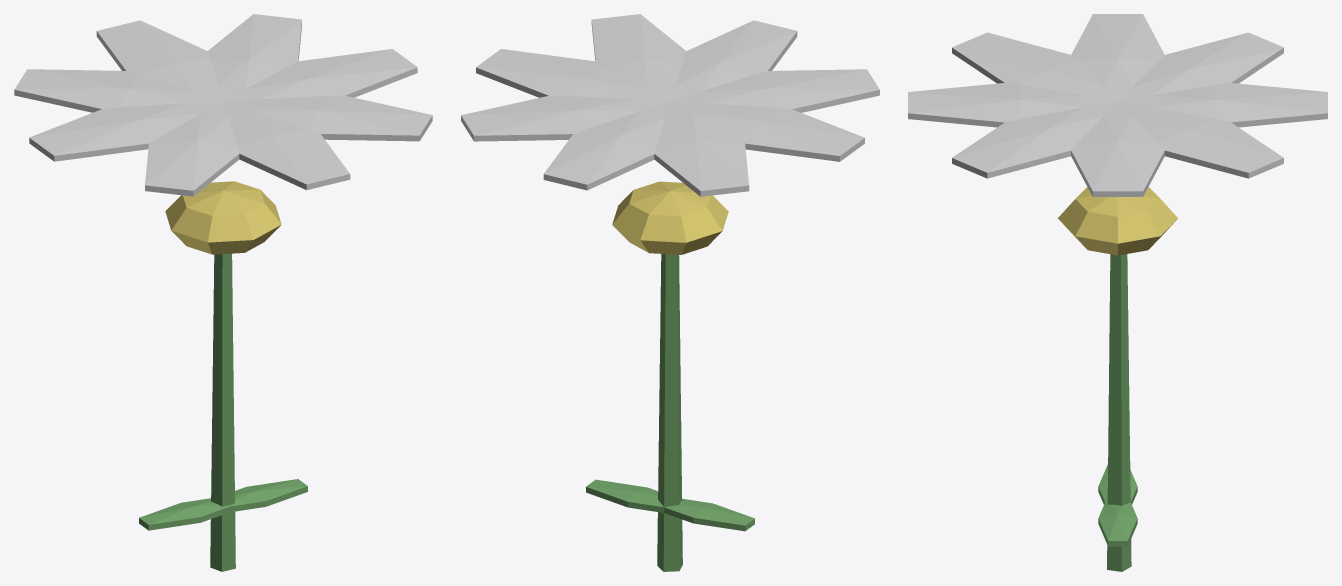
Rendered from flower_daisy.glb.
3 renders of one model, left to right at view 1: azimuth 30°, elevation 25°; view 2: azimuth 150°, elevation 25°; view 3: azimuth 270°, elevation 25°, orthographic.
Visible parts, largest first — view 1: flower_daisy; view 2: flower_daisy; view 3: flower_daisy.
Part boxes in pixels (x1,y1,x2,y2): flower_daisy: (14, 14, 432, 571); flower_daisy: (461, 14, 879, 571); flower_daisy: (908, 14, 1327, 571).
Size of the model in its own units: 0.557 by 0.6835 by 0.557.
